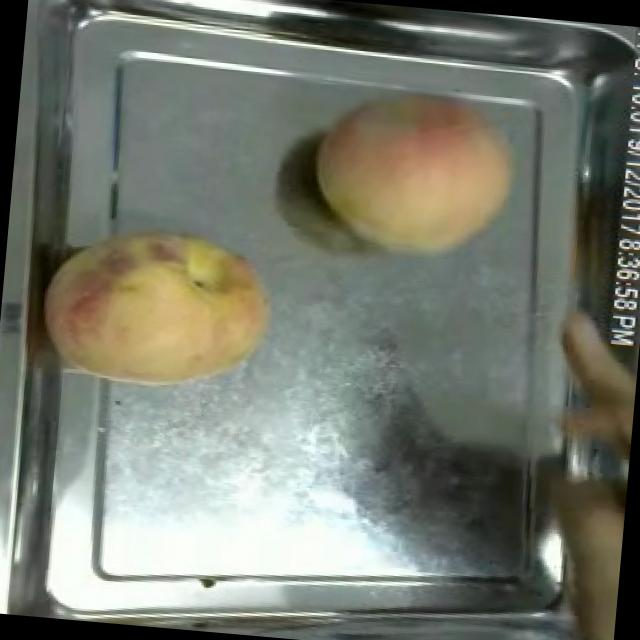Fruit: (25, 209, 286, 410), (298, 72, 532, 276)
